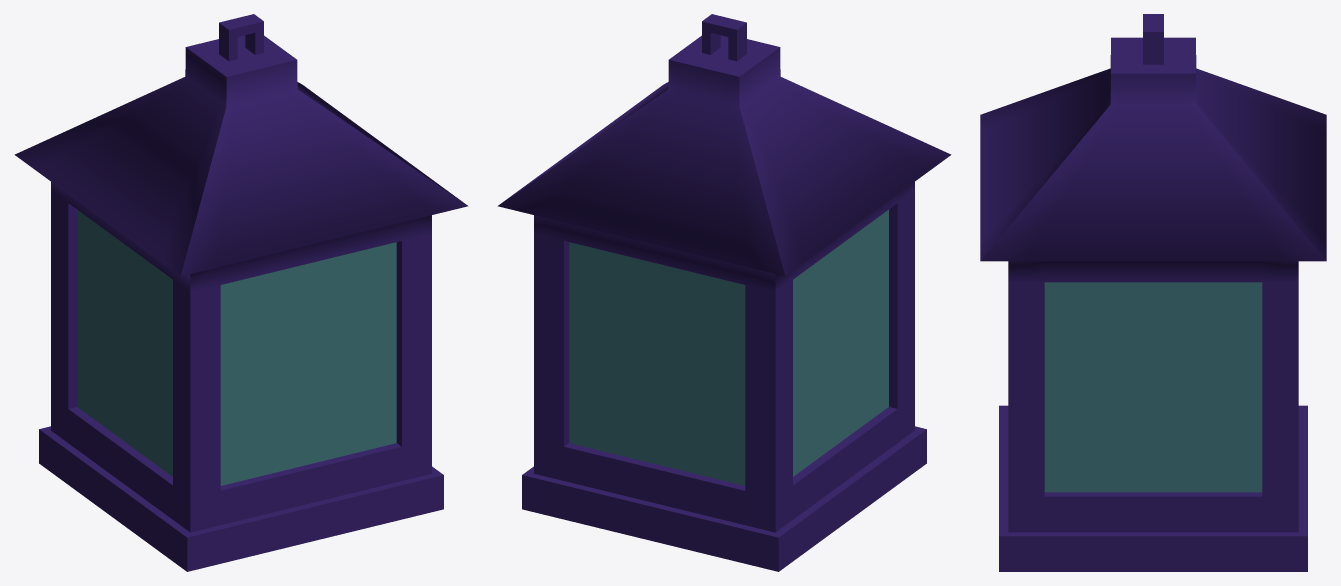
The model's file is lantern_low.fbx.
The picture shows the model from 3 angles, left to right: view 1: azimuth 30°, elevation 25°; view 2: azimuth 150°, elevation 25°; view 3: azimuth 270°, elevation 25°; orthographic projection. The views are drawn at different scales.
Visible parts, largest first — view 1: lanterne001, lanterne vitre; view 2: lanterne001, lanterne vitre; view 3: lanterne001, lanterne vitre.
Boxes of the visible parts, <box> form: lanterne001: <box>14,14,468,571</box>; lanterne vitre: <box>77,209,396,485</box>; lanterne001: <box>497,14,951,571</box>; lanterne vitre: <box>569,209,888,485</box>; lanterne001: <box>980,14,1326,571</box>; lanterne vitre: <box>1044,282,1262,492</box>.
Size of the model in its own units: 17.01 by 26.21 by 17.01.
